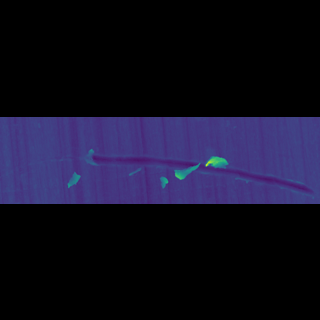Loch: (81, 156, 318, 170), (173, 160, 200, 165), (206, 158, 230, 162), (64, 162, 82, 167), (159, 164, 169, 167)
